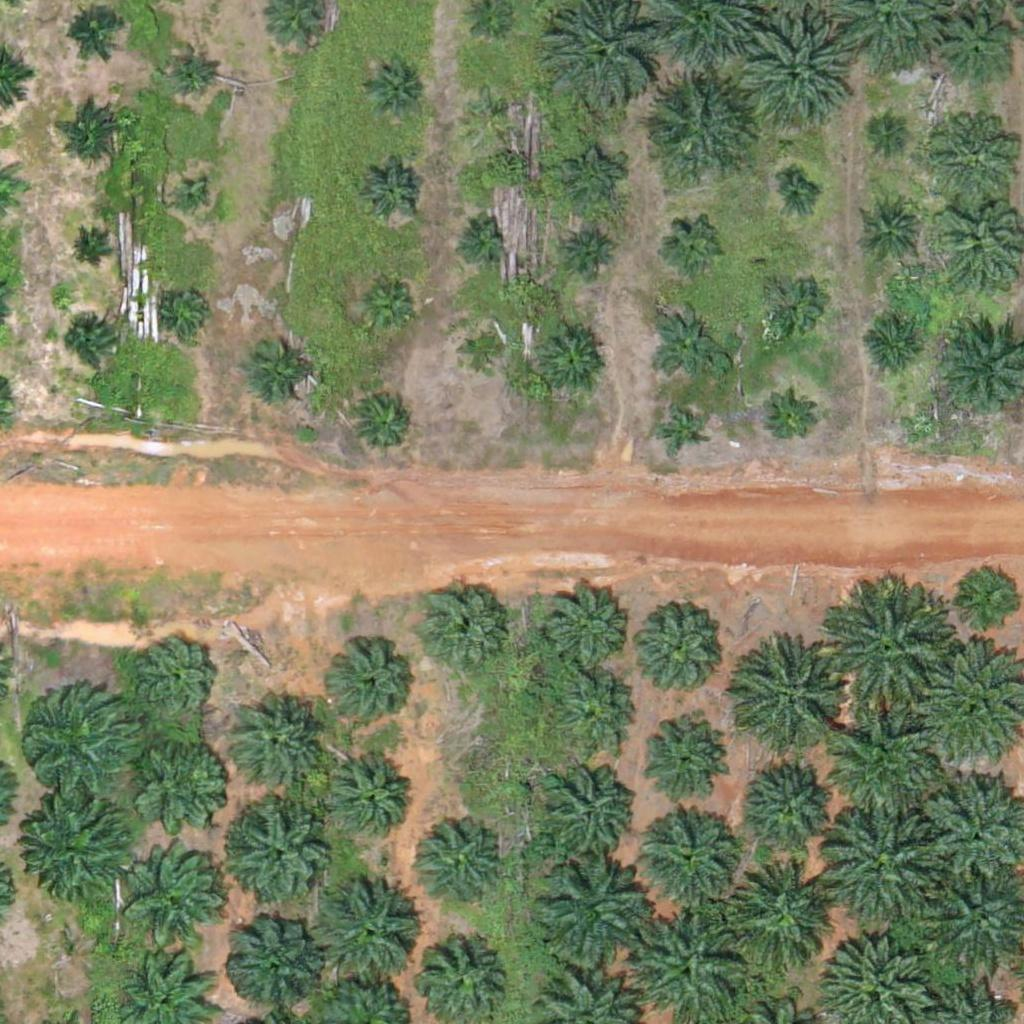Kelapa_Sawit: (826, 592, 951, 718), (20, 680, 145, 806), (722, 860, 835, 974), (829, 710, 942, 823), (820, 811, 933, 924), (735, 13, 848, 126), (639, 70, 752, 183), (533, 857, 645, 971), (308, 873, 420, 986), (225, 801, 337, 914), (744, 753, 844, 854), (628, 597, 728, 698), (404, 817, 504, 918), (227, 693, 327, 794), (129, 847, 229, 948), (32, 798, 132, 899), (739, 651, 839, 751), (641, 807, 741, 907), (537, 760, 637, 860), (223, 913, 323, 1013), (133, 725, 233, 825), (635, 713, 723, 801), (417, 582, 505, 670), (320, 753, 408, 841), (928, 111, 1016, 199), (555, 668, 642, 756), (543, 585, 630, 673), (330, 642, 417, 730), (134, 638, 221, 726), (244, 332, 319, 408), (934, 14, 1009, 90), (533, 322, 608, 397), (649, 304, 724, 379), (361, 55, 424, 118), (361, 160, 424, 223), (354, 392, 417, 455), (862, 319, 925, 382), (959, 566, 1022, 629), (757, 274, 820, 337), (354, 274, 417, 337), (64, 101, 126, 164), (63, 1, 125, 64), (561, 147, 623, 210), (665, 216, 727, 279), (763, 396, 813, 447), (567, 225, 617, 276), (656, 405, 706, 456), (464, 82, 514, 133), (454, 211, 504, 262), (64, 319, 114, 369), (164, 286, 214, 336), (865, 204, 915, 254), (458, 327, 508, 377), (166, 45, 216, 95), (873, 115, 911, 153), (173, 181, 211, 219), (778, 177, 815, 215), (68, 232, 105, 270)
